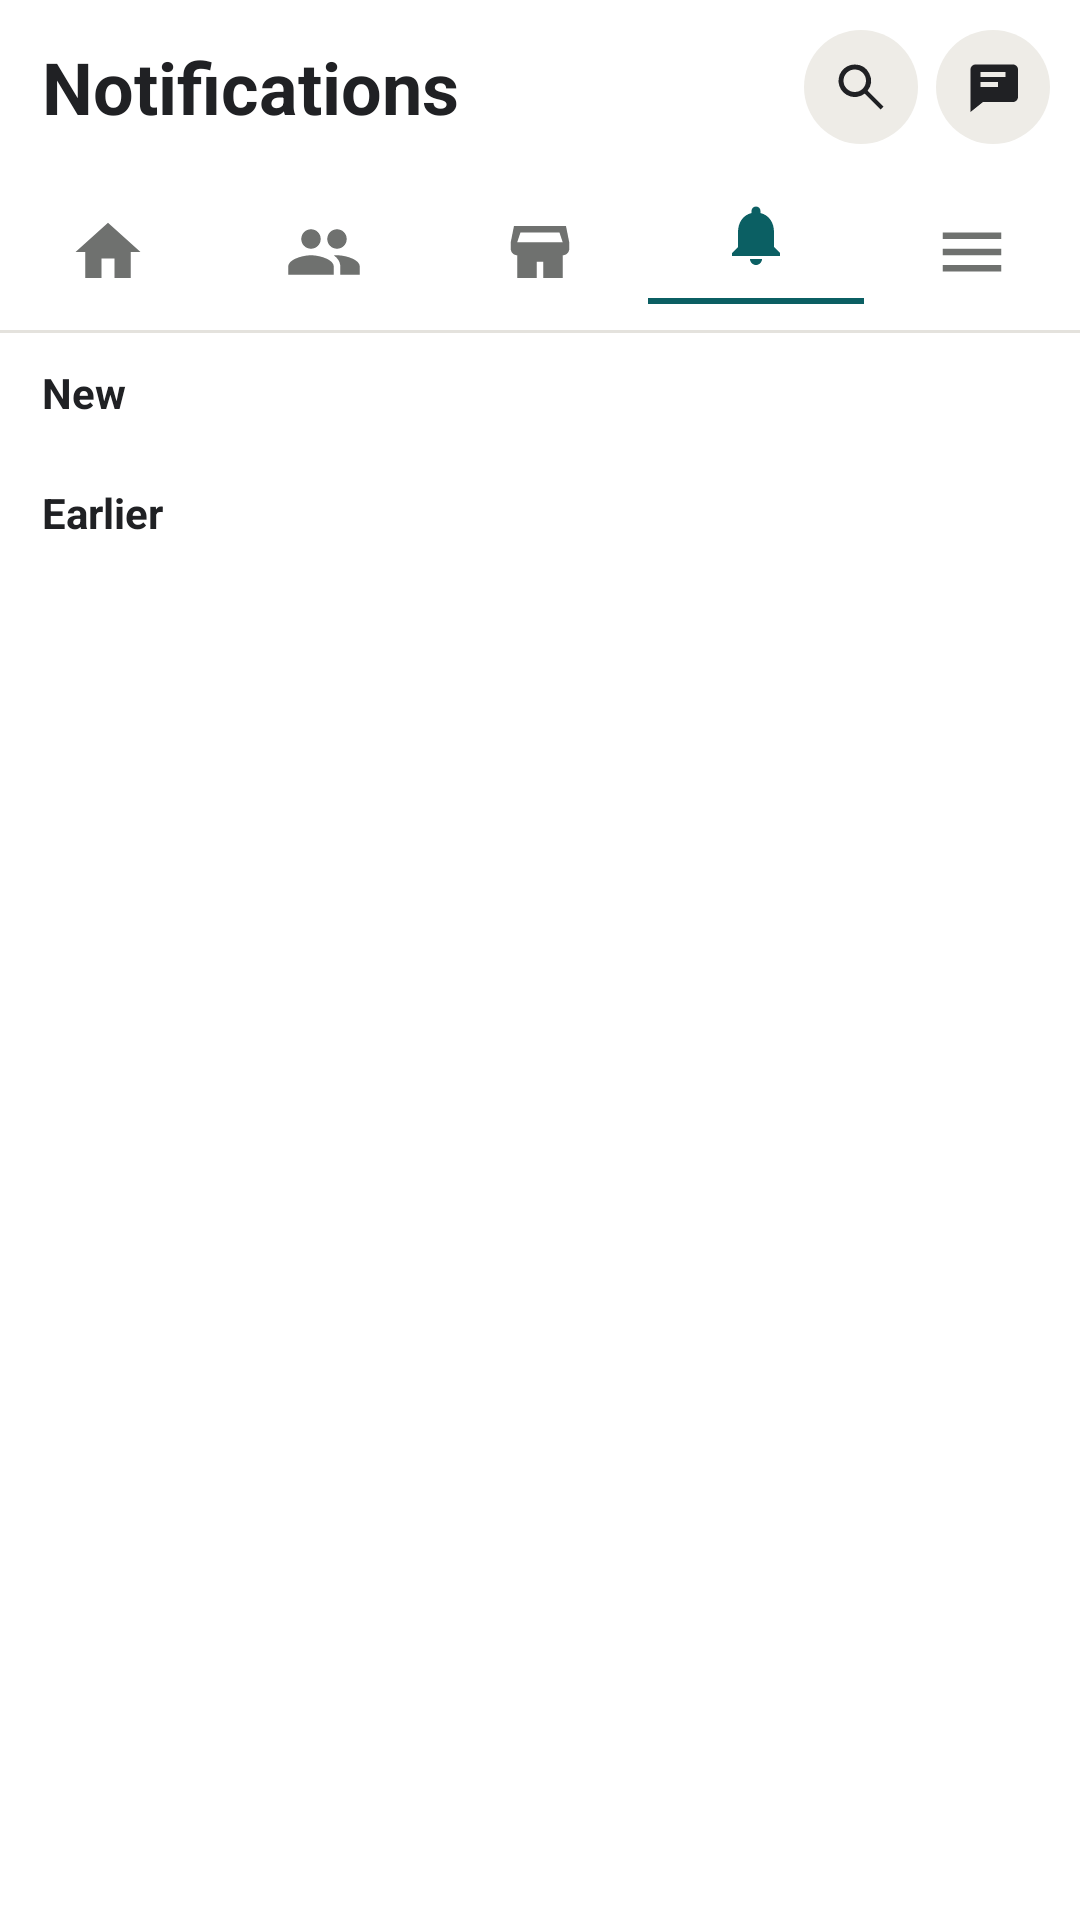

Icon bounding boxes for this 1080px×1920px phone screenshot, format (x1, y1, x2, y2):
Chats: (970, 64, 1018, 112)
Friends: (288, 229, 360, 275)
Home: (76, 223, 140, 278)
Marketplace: (510, 226, 570, 278)
Menu: (942, 232, 1002, 272)
Search: (804, 30, 918, 144)
